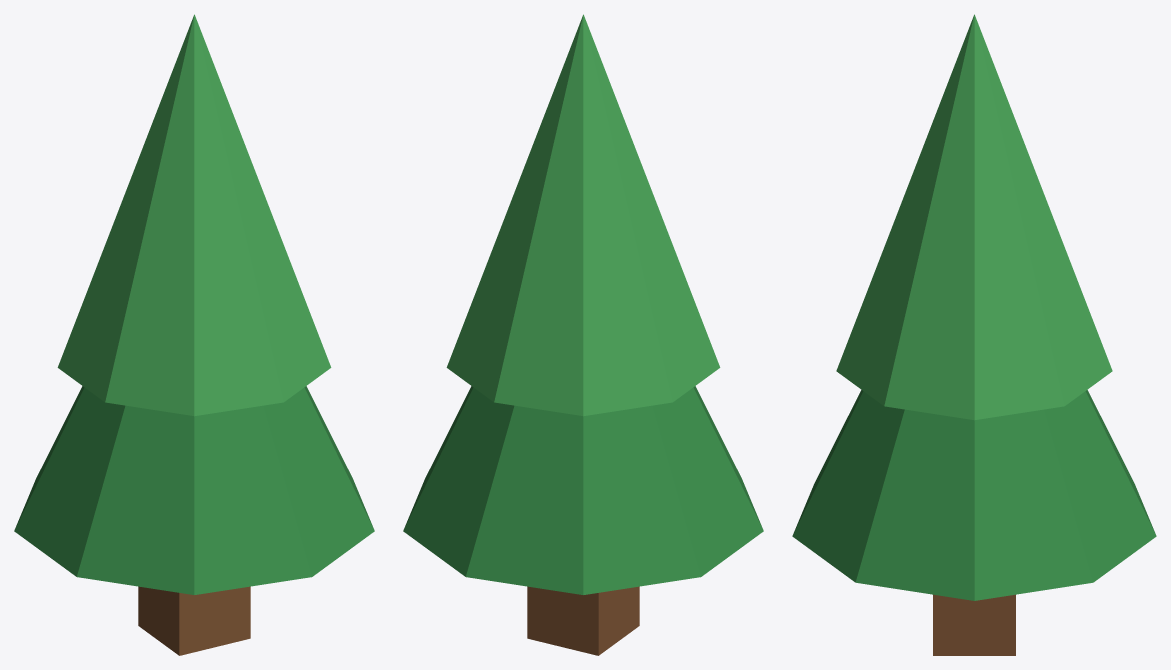
The model's file is tree.glb.
3 views of the same model, side by side, from view 1: azimuth 30°, elevation 25°; view 2: azimuth 150°, elevation 25°; view 3: azimuth 270°, elevation 25° (orthographic).
Visible parts, largest first — view 1: Upper crown, Lower crown, Trunk; view 2: Upper crown, Lower crown, Trunk; view 3: Upper crown, Lower crown, Trunk.
Part boxes in pixels (box(x1,y1,x2,y2)): Upper crown: box(57, 14, 331, 416); Lower crown: box(14, 386, 374, 594); Trunk: box(138, 586, 250, 655); Upper crown: box(446, 14, 720, 416); Lower crown: box(403, 386, 763, 594); Trunk: box(527, 586, 639, 655); Upper crown: box(836, 14, 1112, 420); Lower crown: box(792, 390, 1156, 600); Trunk: box(933, 594, 1015, 655).
Bounding box in the file's own units: 0.5625 × 1.08 × 0.5712.
